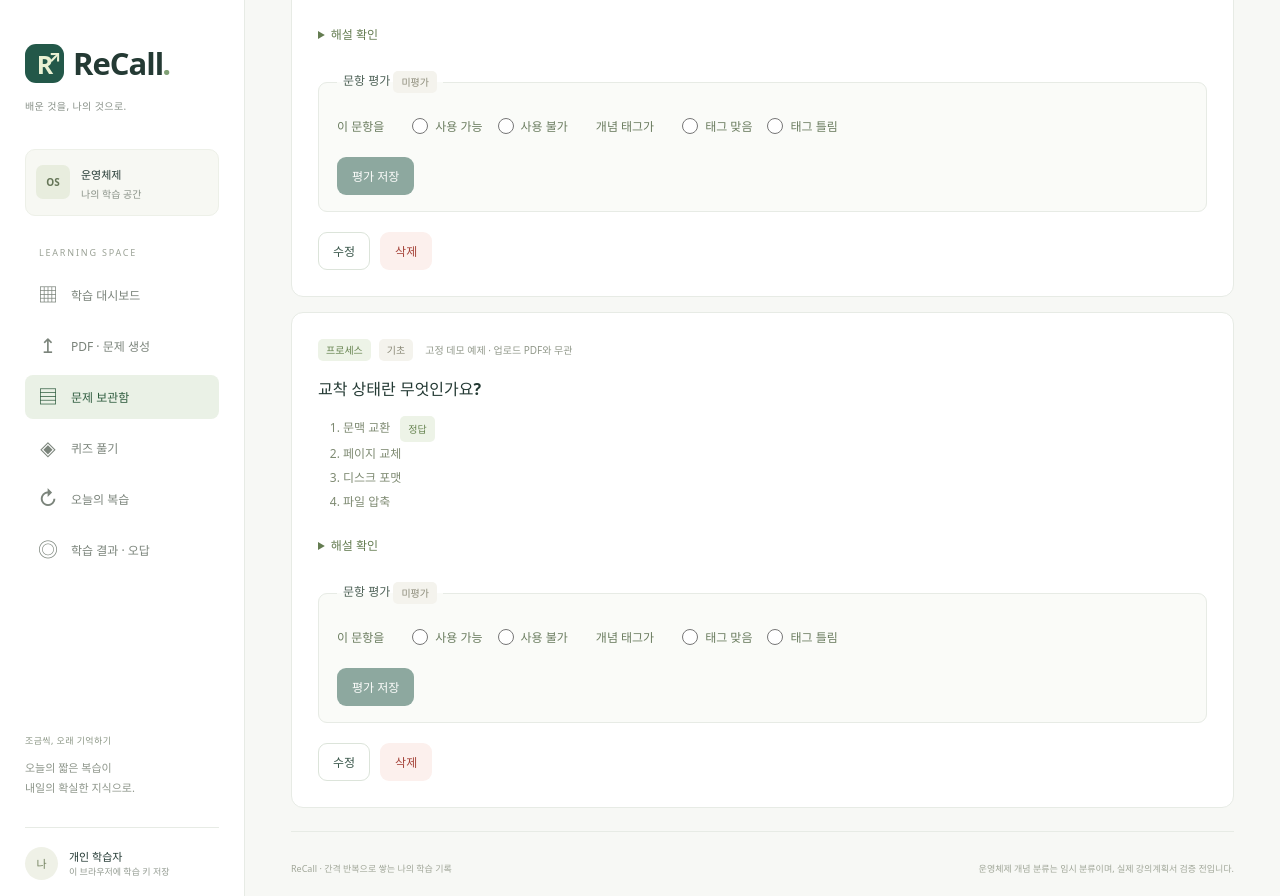
Test: question quality review › sends no issue type for a usable question and reports a stale version
The width and height of the screenshot is (1280, 896).
(page scrolled)
Check: the heading "교착 상태란 무엇인가요?" is shown, box [318,378,481,400]
Click the radio button labelled "사용 가능" below "교착 상태란 무엇인가요?". click: (420, 637)
box: [412,629,428,645]
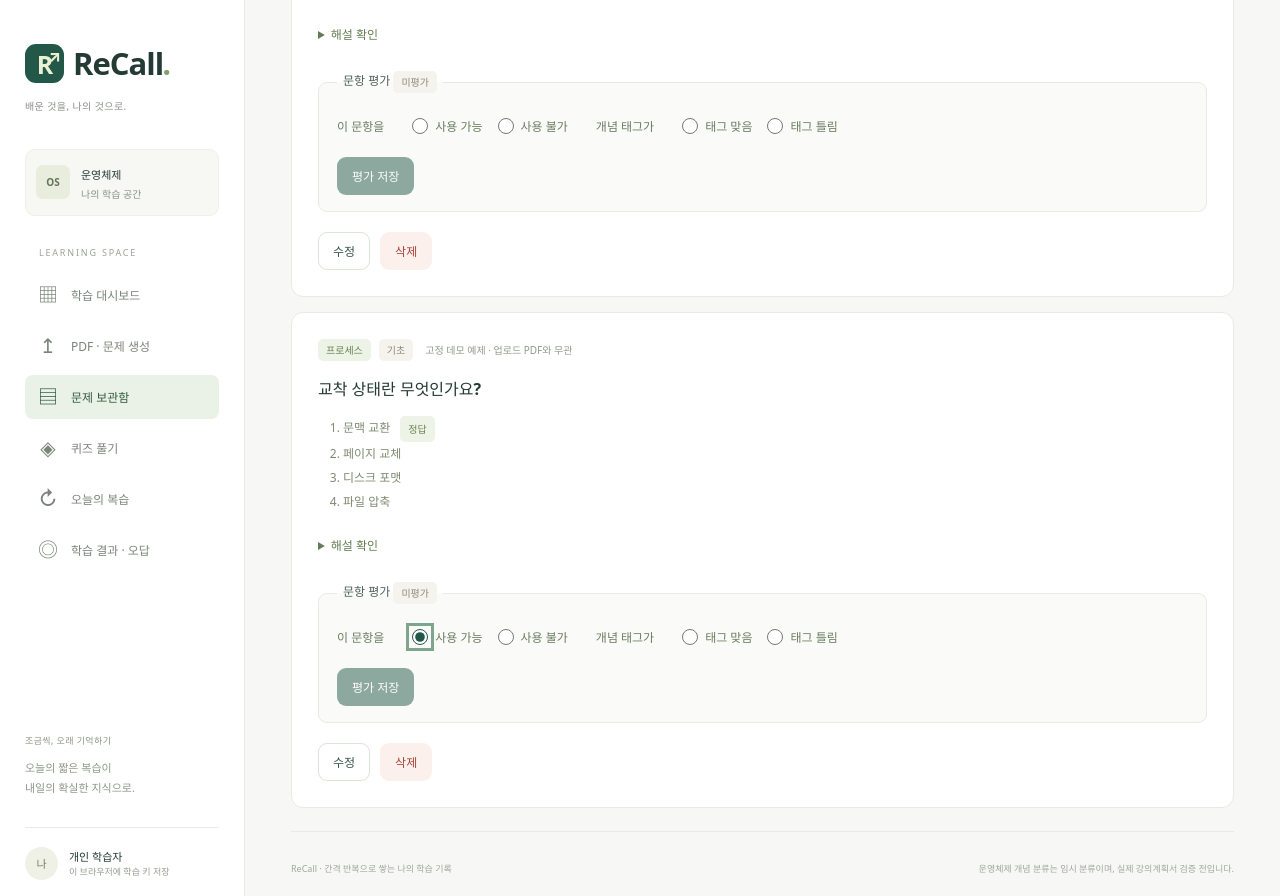
Click the 2nd radio button labelled "태그 틀림". click: (776, 637)
box: [768,629,784,645]
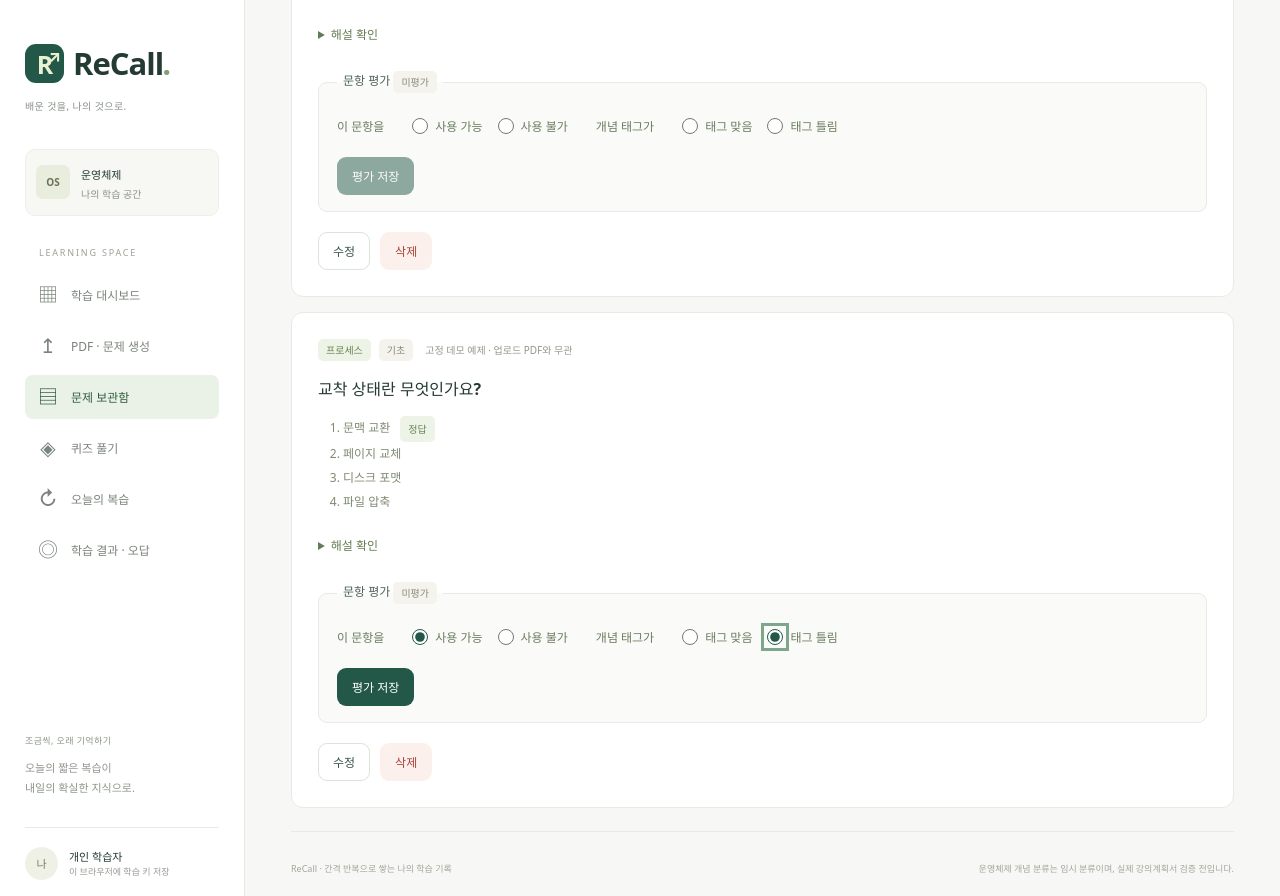
Click the button "평가 저장" below "교착 상태란 무엇인가요?". click: (376, 687)
box: [337,668,414,706]
(page scrolled)
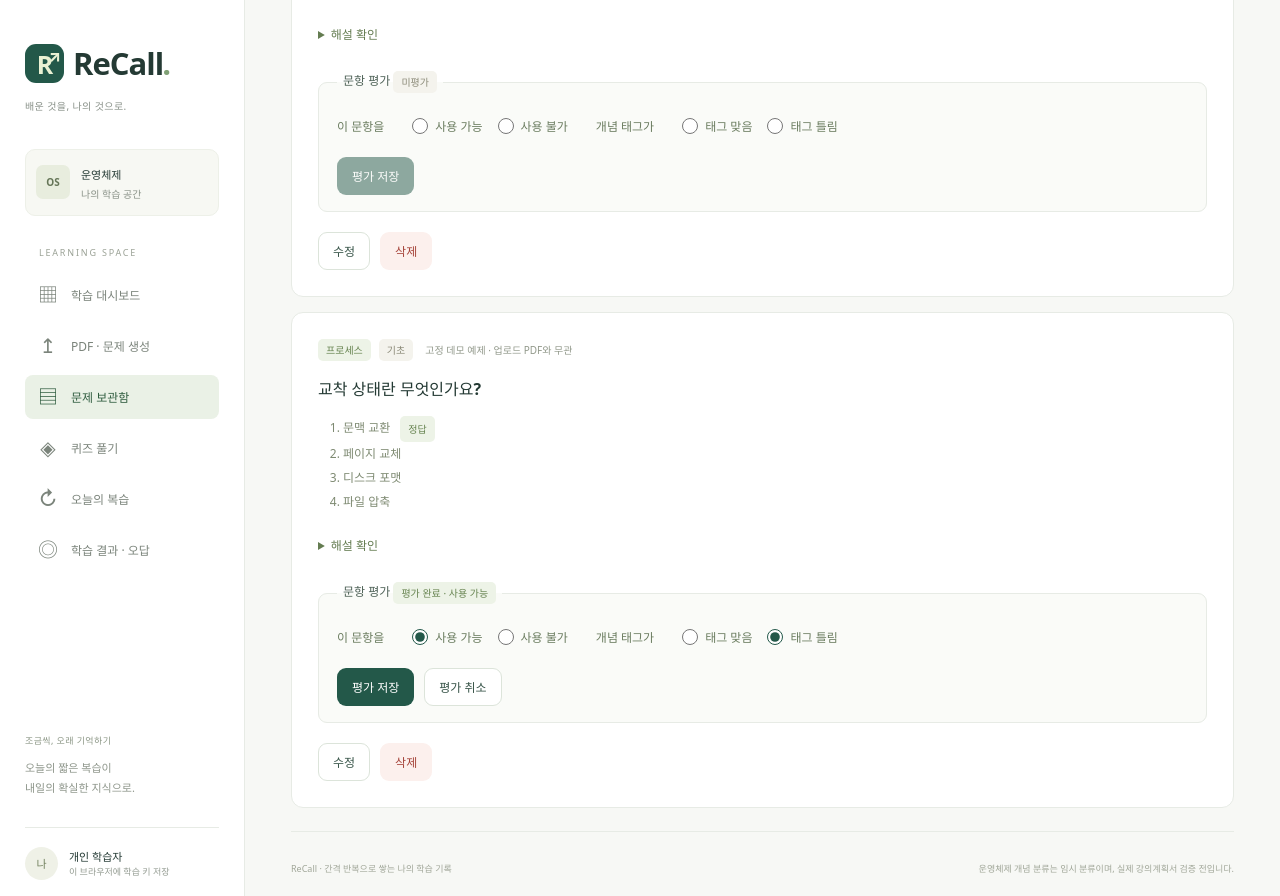
Check: the text "평가 완료 · 사용 가능" is shown, box [393,582,496,604]
Click the button "평가 저장" below "평가 완료 · 사용 가능". click: (376, 687)
box: [337,668,414,706]
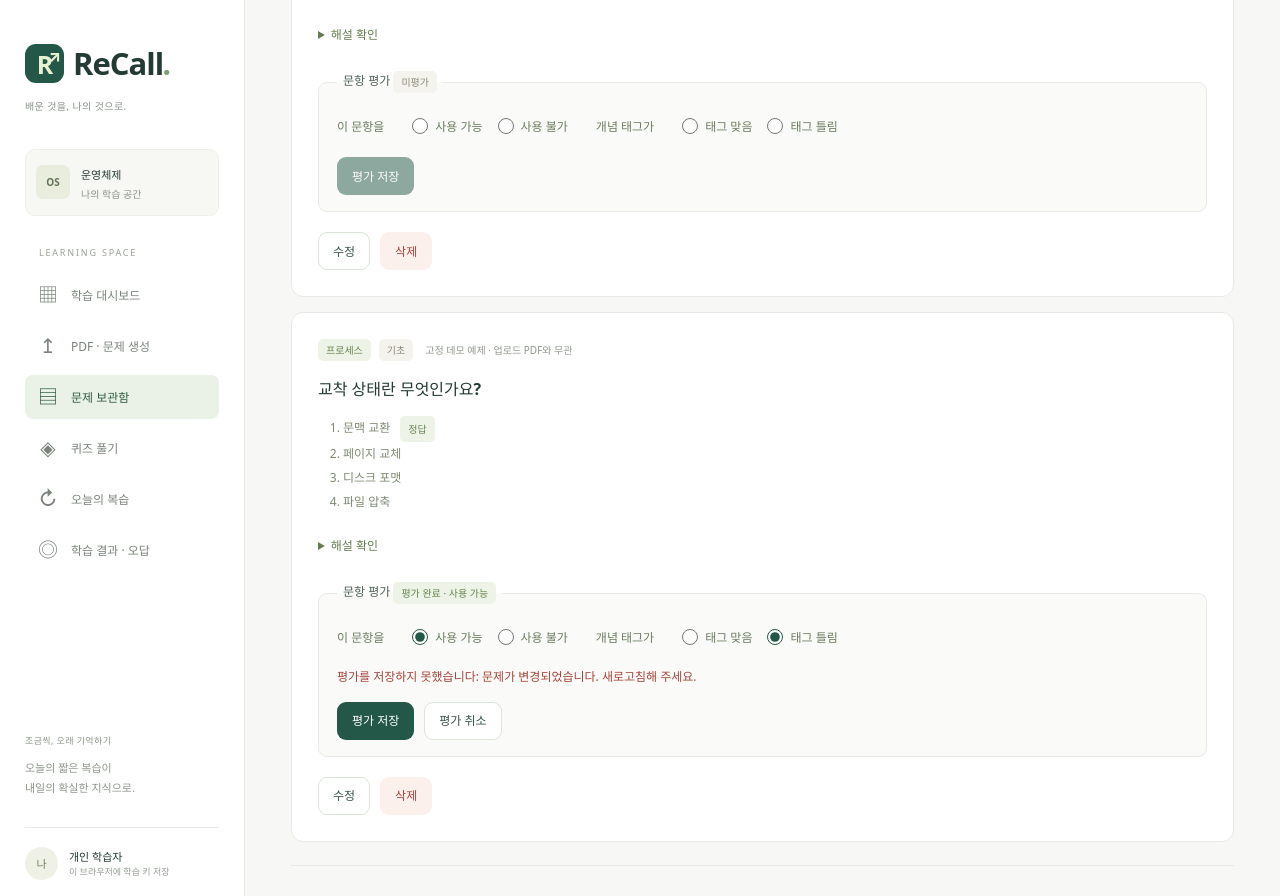
Check: the text "평가를 저장하지 못했습니다: 문제가 변경되었습니다. 새로고침해 주세요." is shown, box [337,668,697,685]
